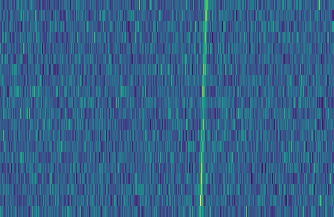signal: (196, 0, 211, 217)
